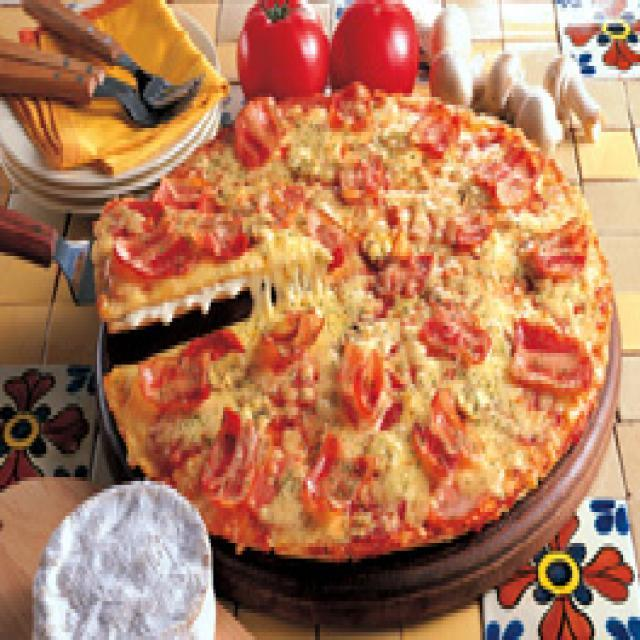Pizza: (99, 83, 616, 556)
